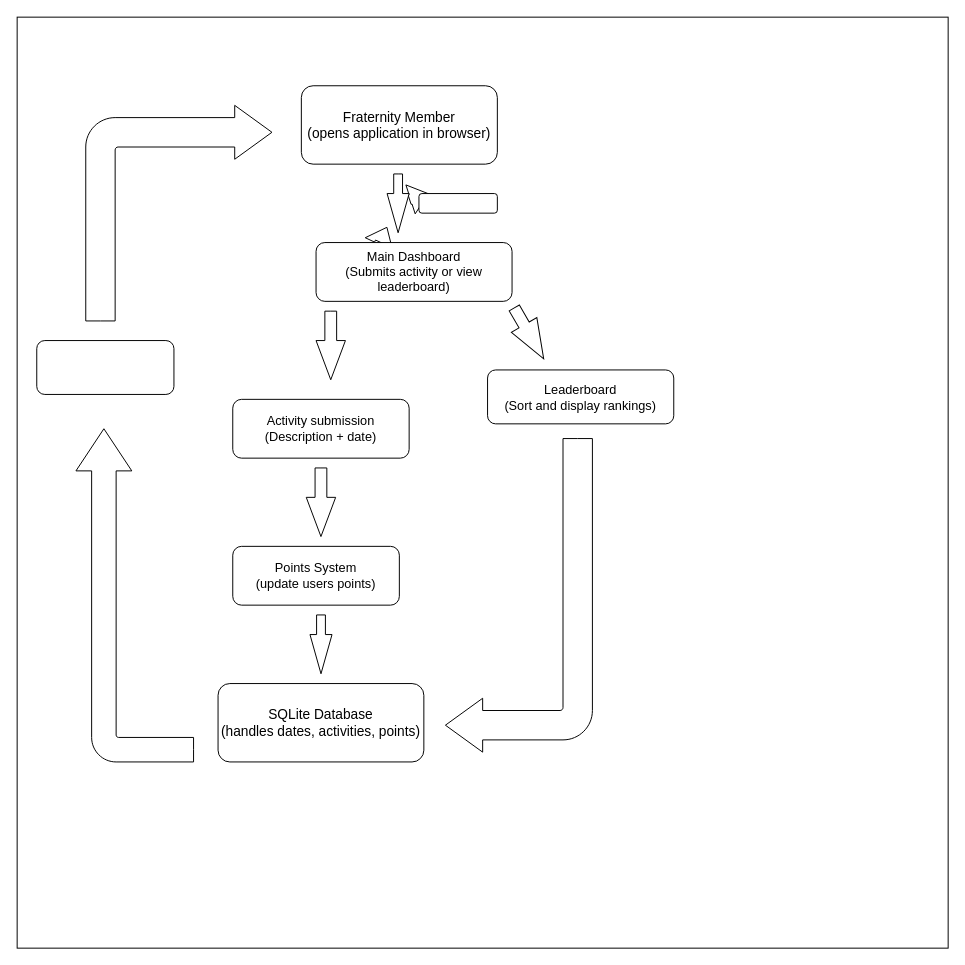
Some shapes in this 965 by 965 pixel diagram are drawn without their labels. Each missing label, with the centre of its shape:
"Displays rankings" goes at (105,367).
"Log in" goes at (457,203).
